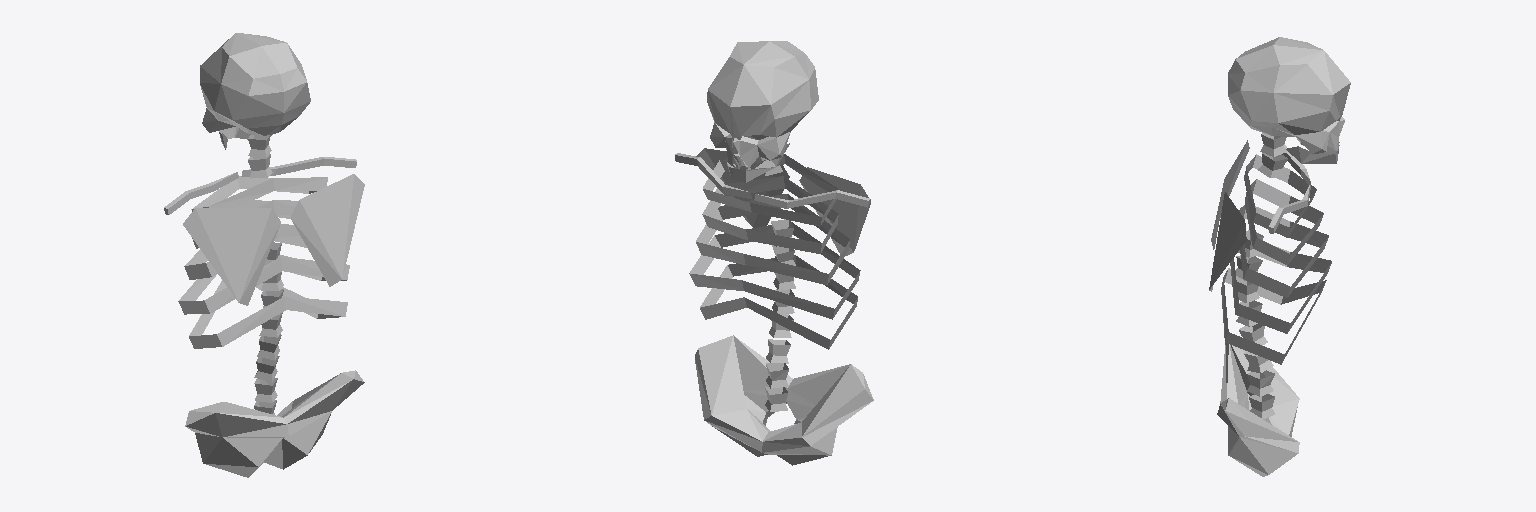
The model's file is newbody.obj.
3 views of the same model, side by side, from view 1: azimuth 30°, elevation 25°; view 2: azimuth 150°, elevation 25°; view 3: azimuth 270°, elevation 25° (orthographic).
Parts seen in each view (by area): view 1: polySurface17; view 2: polySurface17; view 3: polySurface17.
Part boxes in pixels (x1,y1,x2,y2): polySurface17: (164,33,364,477); polySurface17: (675,41,873,465); polySurface17: (1209,37,1350,476).
Bounding box in the file's own units: 1.97 × 4.13 × 1.25.